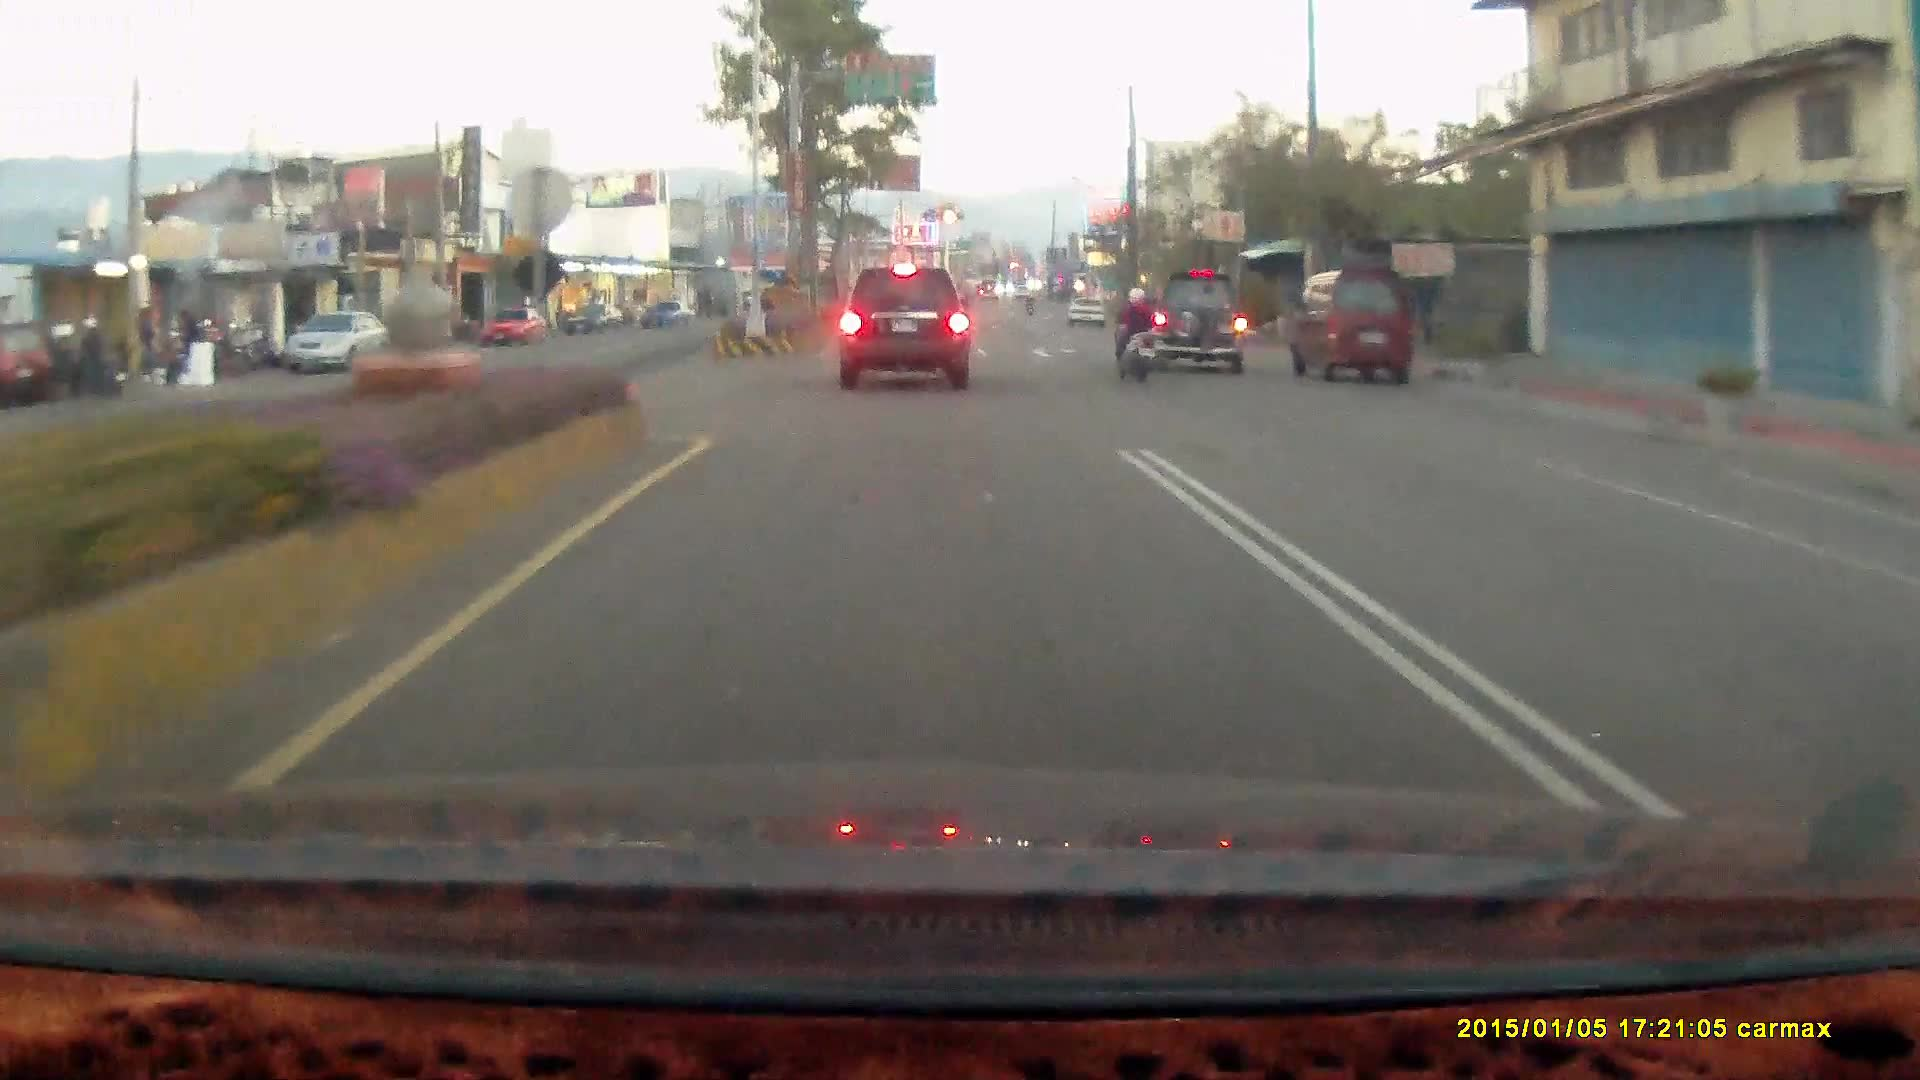pedestrian: (174, 308, 204, 376)
rider: (1112, 286, 1158, 385)
vehicle: (838, 267, 968, 387), (1284, 266, 1411, 385), (1296, 267, 1418, 389), (1149, 272, 1259, 377), (1151, 270, 1245, 374), (1896, 493, 1920, 836), (284, 311, 393, 380), (282, 308, 391, 373), (1883, 528, 1920, 690), (478, 304, 548, 345), (1066, 298, 1105, 329)
